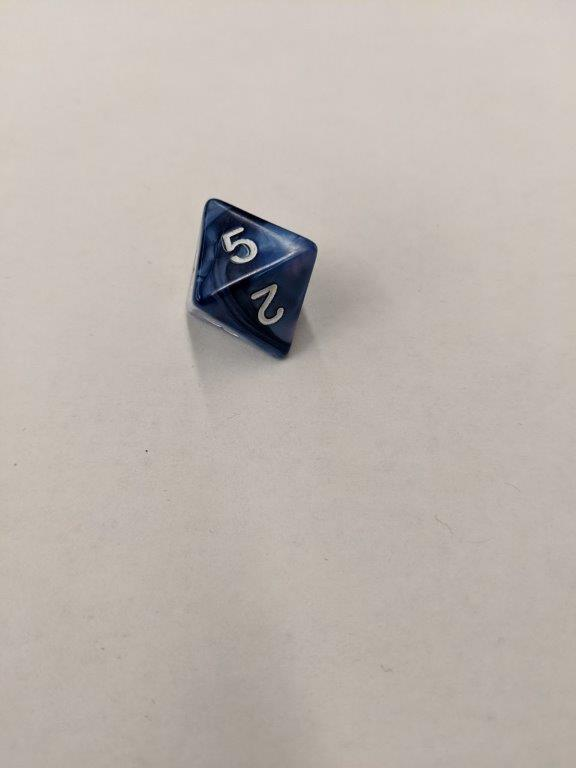d8-5: (188, 192, 318, 365)
